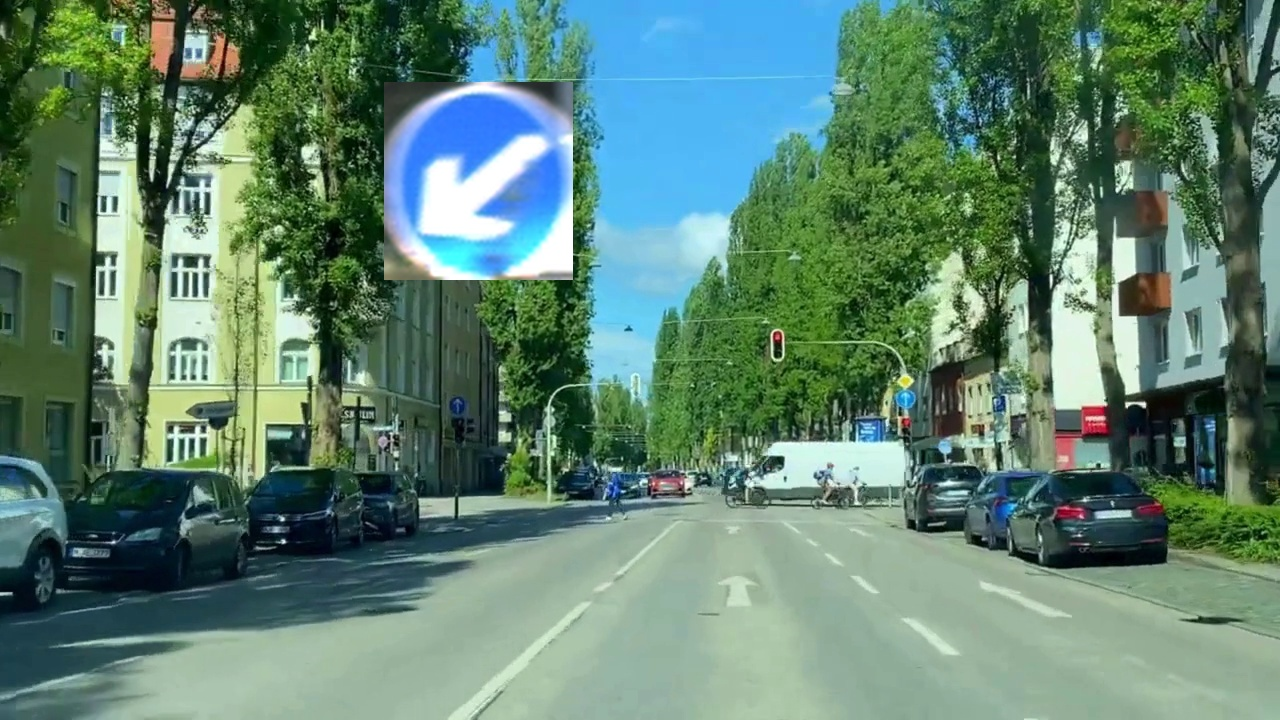Keep left: (384, 82, 573, 280)
